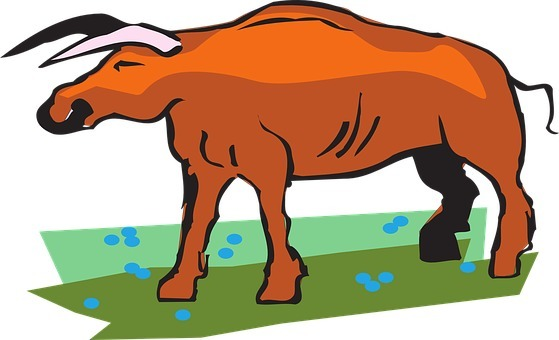cow: (10, 7, 542, 308)
